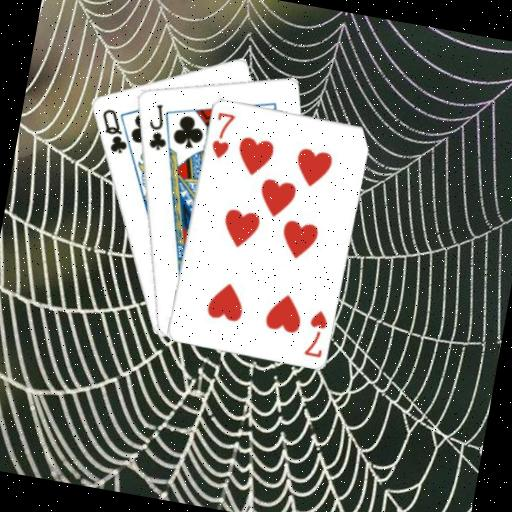7H: (207, 107, 237, 161), (300, 305, 330, 359)
JC: (140, 99, 174, 153)
QC: (92, 104, 134, 156)
